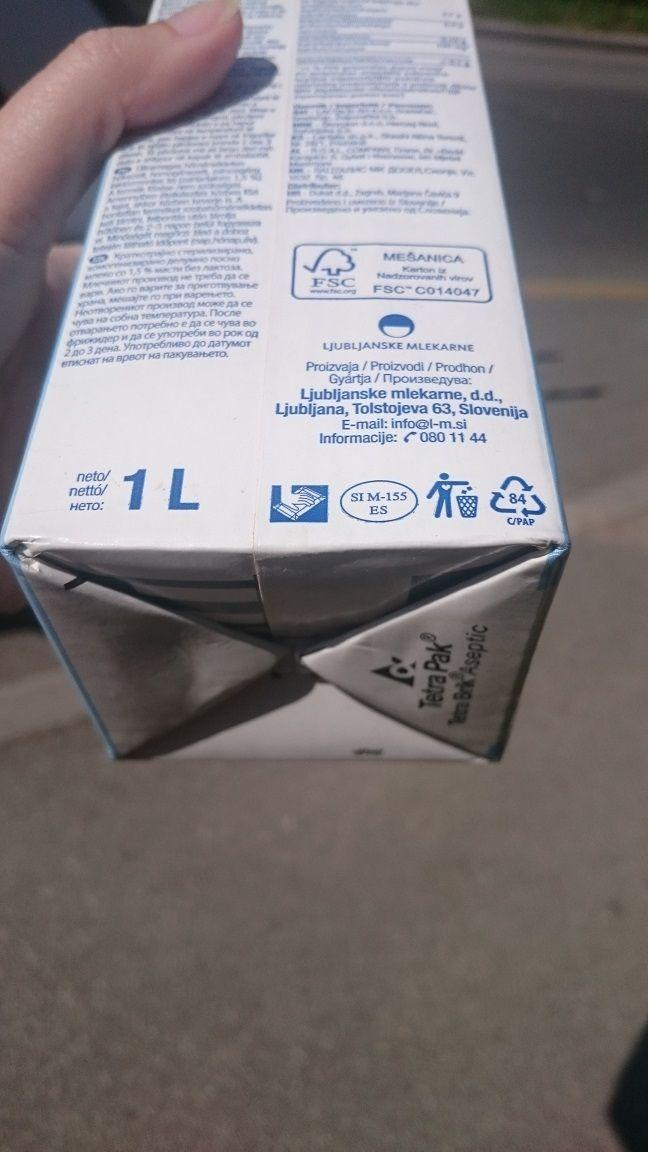cardboard: (0, 0, 567, 757)
